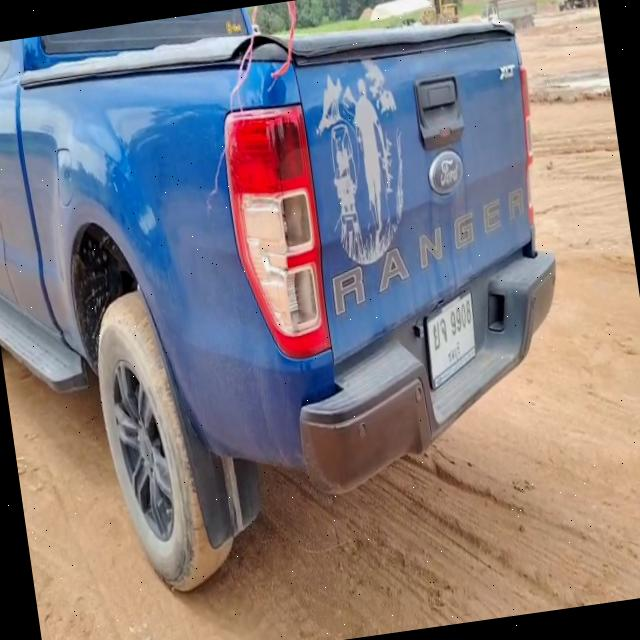Digit: (446, 297, 474, 337)
Licenseplate: (422, 284, 478, 395)
Provincename: (444, 336, 464, 364)
Thaichar: (430, 316, 450, 353)
